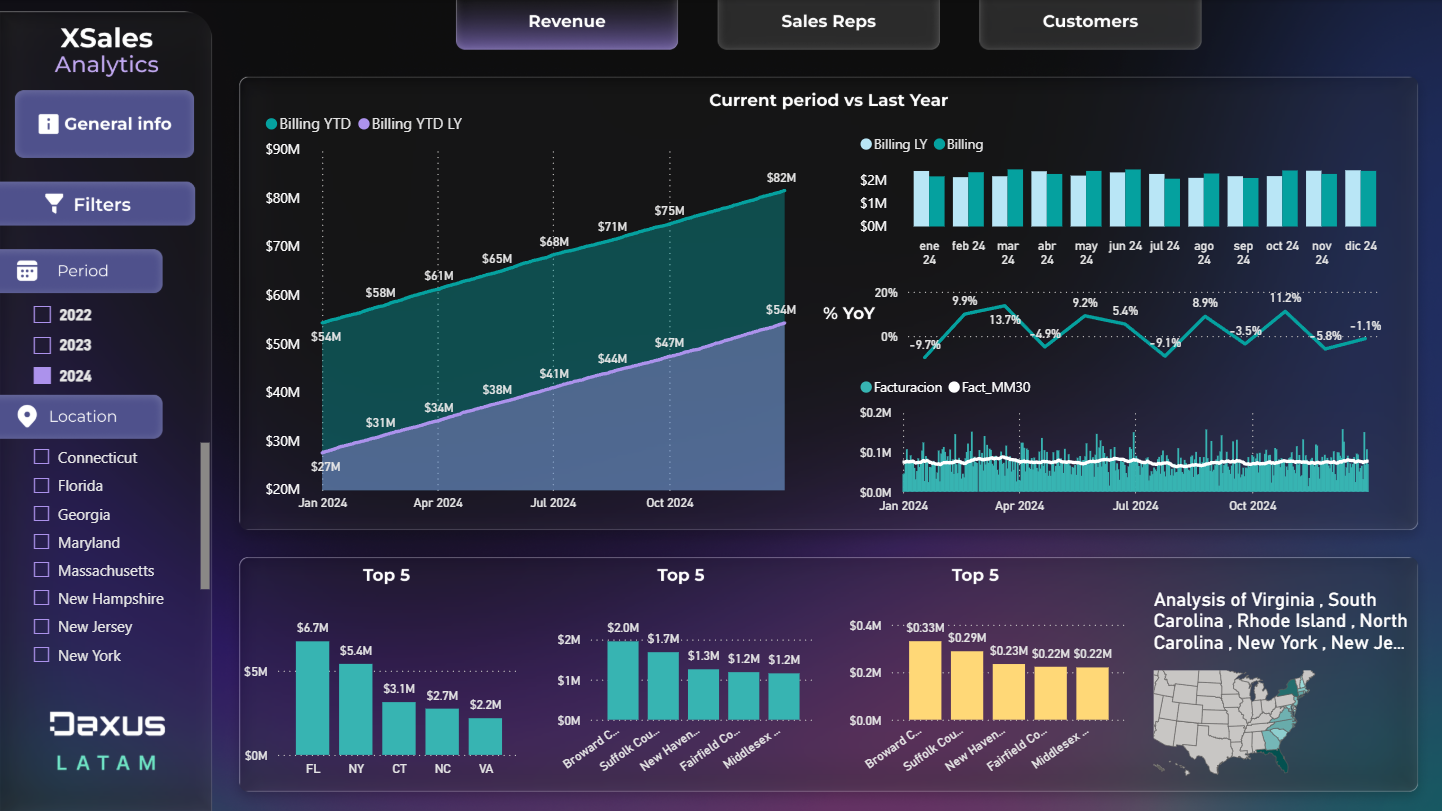

The page's visual inventory and layout, read from the dashboard file:
{"tool":"powerbi","page":{"name":"General","canvas":[1280,720],"ordinal":0},"visuals":[{"type":"actionButton","box":[640,0,179.9,35],"z":0},{"type":"actionButton","box":[869.5,0,179.9,35],"z":1000},{"type":"slicer","fields":{"Values":["dCalendario.Año"]},"box":[17.6,260.8,173.9,92.2],"z":2000},{"type":"slicer","fields":{"Values":["dLocal.estado_desc"]},"box":[17.6,387.2,173.9,208.1],"z":3000},{"type":"columnChart","fields":{"Category":["dLocal.estado_sigla"],"Y":["Tabla_medidas.Top5_fact_estados"]},"box":[211.6,534.7,255.5,160.7],"z":4000},{"type":"columnChart","fields":{"Category":["dLocal.ciudad"],"Y":["Tabla_medidas.Top5_fact_ciudad"]},"box":[475.6,535,254.8,160.5],"z":5000},{"type":"columnChart","fields":{"Category":["dLocal.ciudad"],"Y":["Tabla_medidas.Ganancia"]},"box":[742.1,535,262.6,160.5],"z":6000},{"type":"clusteredColumnChart","fields":{"Category":["dCalendario.Month_year"],"Y":["Tabla_medidas.Fact_LY","Tabla_medidas.Facturacion"]},"box":[758.1,108.2,482.4,135.7],"z":7000},{"type":"lineChart","fields":{"Category":["dCalendario.Month_year"],"Y":["Tabla_medidas.YOY%"]},"box":[770.5,244.7,460.2,78.9],"z":8000},{"type":"areaChart","fields":{"Category":["dCalendario.Date"],"Y":["Tabla_medidas.Fact_YTD","Tabla_medidas.Fact_YTD_LY"]},"box":[230.5,89.6,492.1,371.5],"z":9000},{"type":"lineClusteredColumnComboChart","fields":{"Category":["dCalendario.Date"],"Y":["Tabla_medidas.Facturacion"],"Y2":["Tabla_medidas.Fact_MediaMovil30"]},"box":[758.1,323.6,482.4,138.3],"z":10000},{"type":"shapeMap","fields":{"Category":["dLocal.estado_desc"]},"box":[1018.5,521.6,238.8,173.9],"z":11000},{"type":"cardVisual","fields":{"Data":["Tabla_medidas.Facturacion"]},"box":[17.8,78.5,159.8,60.7],"z":12000}]}

Visuals, with their boxes on the page's 1280x720 design canvas (x1, y1, x2, y2). These are canvas units, not pixel positions in the 1442x811 screenshot, which may show the page scaled, cropped or inside an application window:
actionButton: box=[640, 0, 820, 35]
actionButton: box=[870, 0, 1049, 35]
slicer - dCalendario.Año: box=[18, 261, 192, 353]
slicer - dLocal.estado_desc: box=[18, 387, 192, 595]
columnChart - dLocal.estado_sigla x Tabla_medidas.Top5_fact_estados: box=[212, 535, 467, 695]
columnChart - dLocal.ciudad x Tabla_medidas.Top5_fact_ciudad: box=[476, 535, 730, 696]
columnChart - dLocal.ciudad x Tabla_medidas.Ganancia: box=[742, 535, 1005, 696]
clusteredColumnChart - dCalendario.Month_year x Tabla_medidas.Fact_LY: box=[758, 108, 1240, 244]
lineChart - dCalendario.Month_year x Tabla_medidas.YOY%: box=[770, 245, 1231, 324]
areaChart - dCalendario.Date x Tabla_medidas.Fact_YTD: box=[230, 90, 723, 461]
lineClusteredColumnComboChart - dCalendario.Date x Tabla_medidas.Facturacion: box=[758, 324, 1240, 462]
shapeMap - dLocal.estado_desc: box=[1018, 522, 1257, 696]
cardVisual - Tabla_medidas.Facturacion: box=[18, 78, 178, 139]
